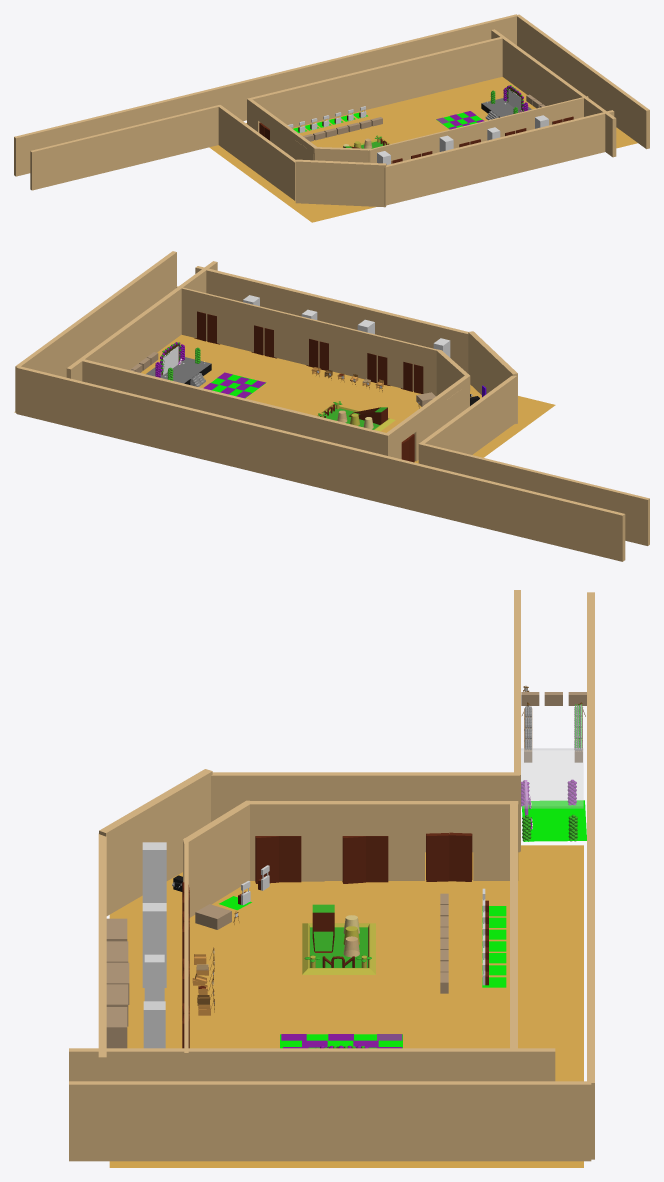
The model's file is tot-manila-floor-plan.glb.
3 renders of one model, top to bottom at view 1: azimuth 30°, elevation 25°; view 2: azimuth 150°, elevation 25°; view 3: azimuth 270°, elevation 25°, orthographic. The views are drawn at different scales.
Visible parts, largest first — view 1: Top Wall.001, Top Wall.002, Bottom Wall.001, Top Wall, Floor, Right Wall.001, Left Wall.002, Bottom Wall.003, Right Wall, Left Wall.001, Right Wall.002, Left Wall (+2 smaller); view 2: Top Wall.001, Bottom Wall.003, Floor, Top Wall.002, Bottom Wall.001, Right Wall.001, Top Wall, Right Wall, Right Wall.002, Left Wall.001, Left Wall, Left Wall.002 (+9 smaller); view 3: Floor, Right Wall.001, Right Wall, Left Wall, Left Wall.001, Right Wall.002, Left Wall.002, Bottom Wall.002, Top Wall.001, Ceiling Hallway, Cube.045, Door 1 (+15 smaller).
Boxes of the visible parts, bbox=[...] form: Top Wall.001: bbox=[14, 14, 517, 176]; Top Wall.002: bbox=[248, 37, 502, 127]; Bottom Wall.001: bbox=[384, 110, 614, 205]; Top Wall: bbox=[30, 105, 220, 190]; Floor: bbox=[209, 77, 637, 222]; Right Wall.001: bbox=[516, 14, 649, 149]; Left Wall.002: bbox=[295, 159, 386, 207]; Bottom Wall.003: bbox=[367, 96, 588, 163]; Right Wall: bbox=[501, 36, 616, 157]; Left Wall.001: bbox=[218, 105, 295, 200]; Right Wall.002: bbox=[491, 29, 604, 116]; Left Wall: bbox=[247, 98, 316, 160]; Top Wall.001: bbox=[16, 366, 625, 561]; Bottom Wall.003: bbox=[176, 286, 442, 396]; Floor: bbox=[14, 334, 555, 463]; Top Wall.002: bbox=[82, 359, 388, 454]; Bottom Wall.001: bbox=[195, 266, 468, 373]; Right Wall.001: bbox=[15, 251, 176, 412]; Top Wall: bbox=[419, 442, 649, 545]; Right Wall: bbox=[82, 261, 217, 369]; Right Wall.002: bbox=[66, 270, 206, 381]; Left Wall.001: bbox=[418, 376, 516, 463]; Left Wall: bbox=[384, 376, 468, 461]; Left Wall.002: bbox=[468, 331, 517, 424]; Floor: bbox=[109, 845, 583, 1167]; Right Wall.001: bbox=[69, 1081, 591, 1161]; Right Wall: bbox=[69, 1048, 517, 1081]; Left Wall: bbox=[250, 801, 518, 880]; Left Wall.001: bbox=[211, 772, 519, 852]; Right Wall.002: bbox=[106, 1048, 555, 1081]; Left Wall.002: bbox=[99, 769, 212, 915]; Bottom Wall.002: bbox=[183, 800, 254, 917]; Top Wall.001: bbox=[587, 592, 594, 1159]; Ceiling Hallway: bbox=[521, 748, 583, 808]; Cube.045: bbox=[302, 923, 375, 974]; Door 1: bbox=[426, 832, 472, 881].
Size of the model in its own units: 97.41 by 7.65 by 43.55.
1321 materials, 239 textured.
